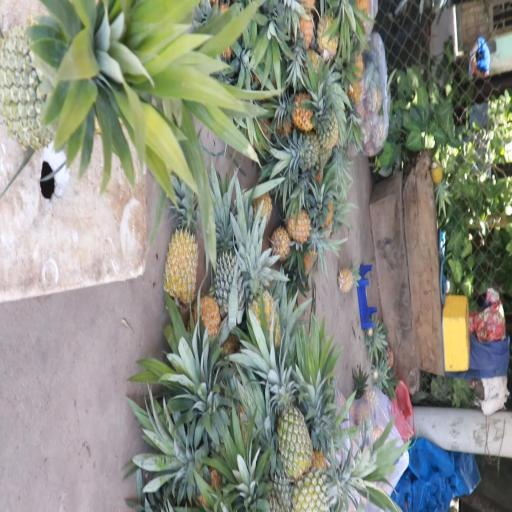------------------------------: (0, 7, 204, 149), (294, 445, 372, 512), (268, 372, 316, 476)
Pineapple - v8 v1: (236, 228, 285, 352), (158, 170, 202, 304), (283, 202, 339, 254), (277, 82, 320, 137)
